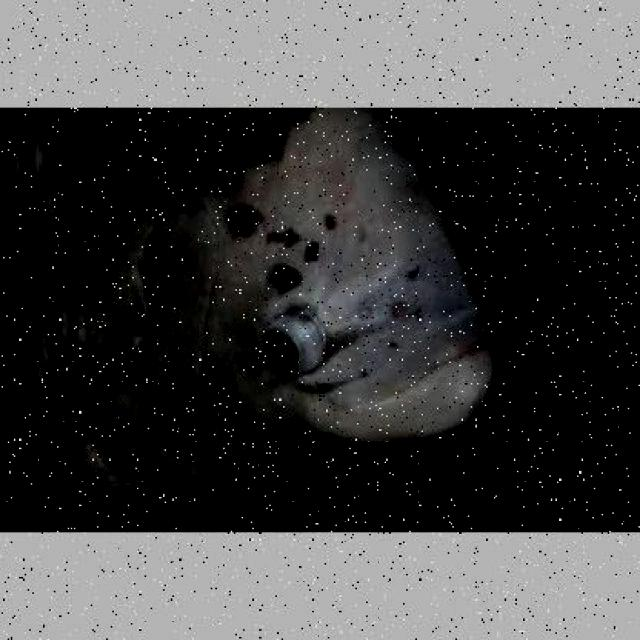gurame: (2, 108, 496, 526)
